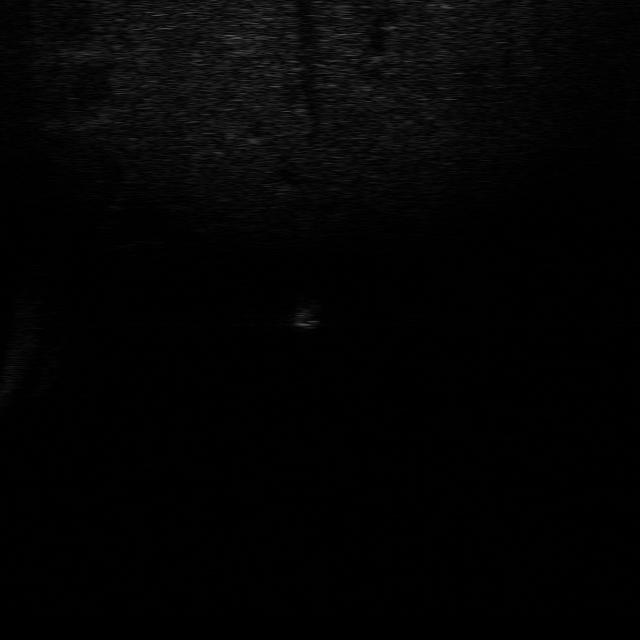human body: (288, 296, 326, 333)
